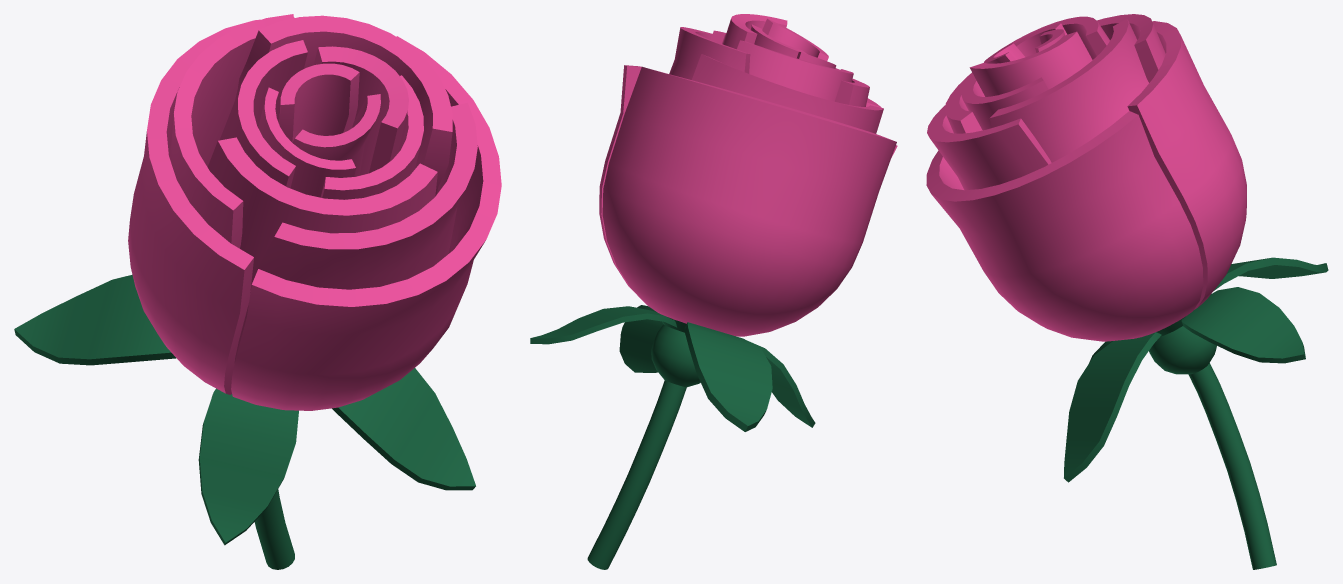
Rendered from Tulip.gltf.
The picture shows the model from 3 angles, left to right: view 1: azimuth 30°, elevation 25°; view 2: azimuth 150°, elevation 25°; view 3: azimuth 270°, elevation 25°; orthographic projection. The views are drawn at different scales.
Parts seen in each view (by area): view 1: Sphere.391, Circle.2051, Circle.2050, Circle.2049, Circle.2048; view 2: Sphere.391, Circle.2048, Circle.2049, Circle.2052, Circle.2050, Circle.2051; view 3: Sphere.391, Circle.2048, Circle.2050, Circle.2052, Circle.2049.
Boxes of the visible parts, x1,y1,x2,y2 form: Sphere.391: (128, 14, 501, 410); Circle.2051: (198, 388, 298, 545); Circle.2050: (332, 368, 475, 490); Circle.2049: (14, 274, 176, 365); Circle.2048: (254, 489, 294, 569); Sphere.391: (599, 14, 897, 336); Circle.2048: (587, 312, 700, 569); Circle.2049: (684, 322, 772, 431); Circle.2052: (530, 306, 676, 344); Circle.2050: (619, 305, 663, 372); Circle.2051: (747, 340, 815, 427); Sphere.391: (926, 14, 1246, 341); Circle.2048: (1149, 316, 1276, 569); Circle.2050: (1064, 332, 1161, 482); Circle.2052: (1181, 287, 1305, 363); Circle.2049: (1214, 257, 1328, 290).
Size of the model in its own units: 1.11 by 2.11 by 1.5.
